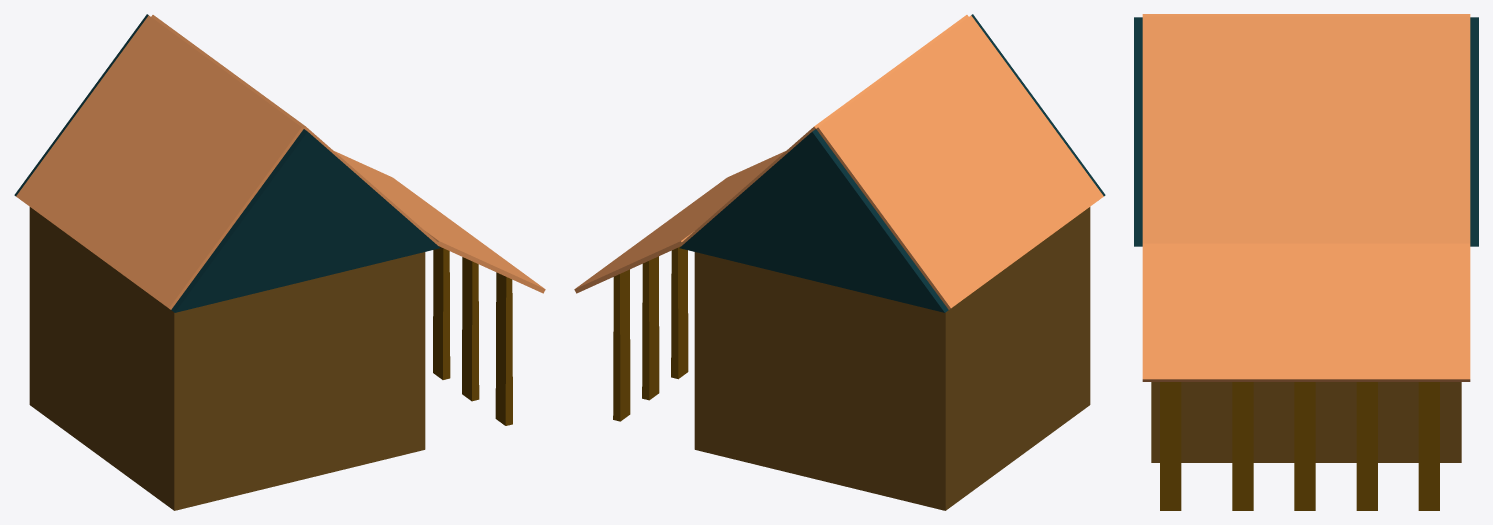
The model's file is Low poly house1.fbx.
3 views of the same model, side by side, from view 1: azimuth 30°, elevation 25°; view 2: azimuth 150°, elevation 25°; view 3: azimuth 270°, elevation 25° (orthographic). The views are drawn at different scales.
Visible parts, largest first — view 1: Cube.007; view 2: Cube.007; view 3: Cube.007.
Part boxes in pixels (x1,y1,x2,y2): Cube.007: (14,14,545,510); Cube.007: (574,14,1105,510); Cube.007: (1134,14,1478,510).
Size of the model in its own units: 451 by 408 by 333.
